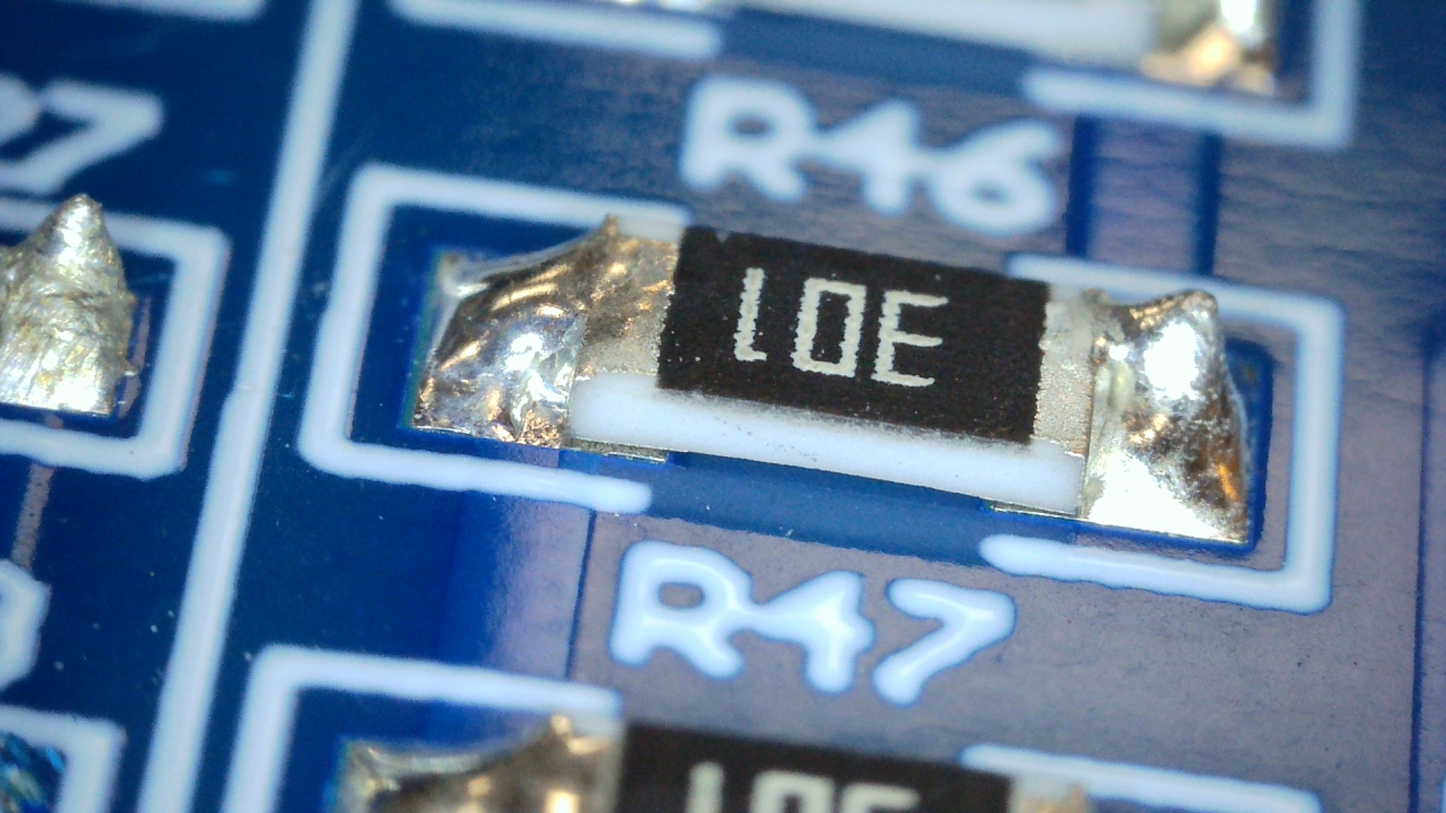NG: (412, 214, 683, 448), (1081, 289, 1246, 542)
